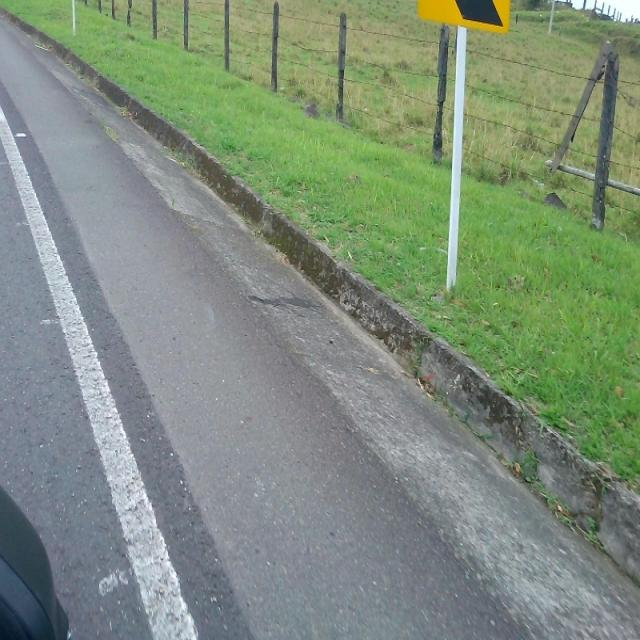DITCH: (3, 2, 638, 638), (1, 5, 638, 638), (1, 7, 638, 637)
